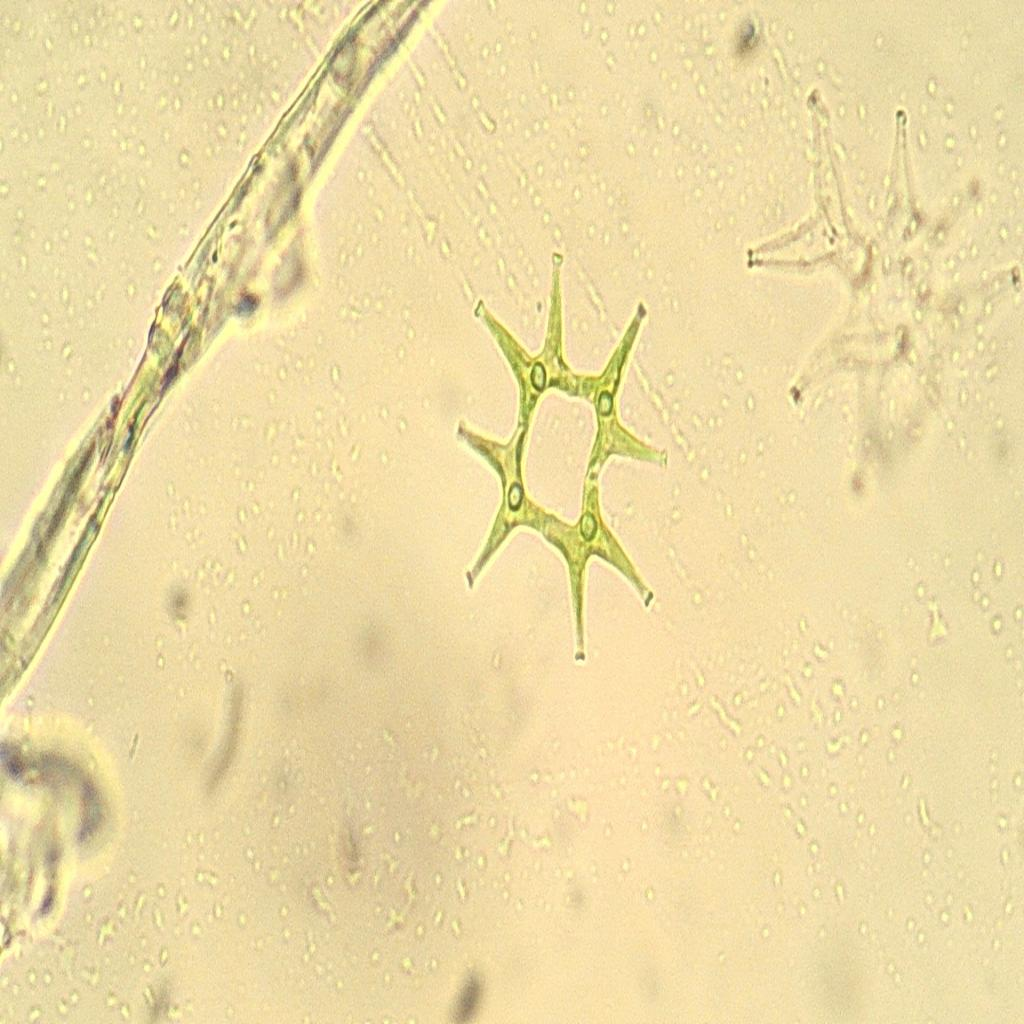Pediastrum_CO: (429, 238, 691, 684)
